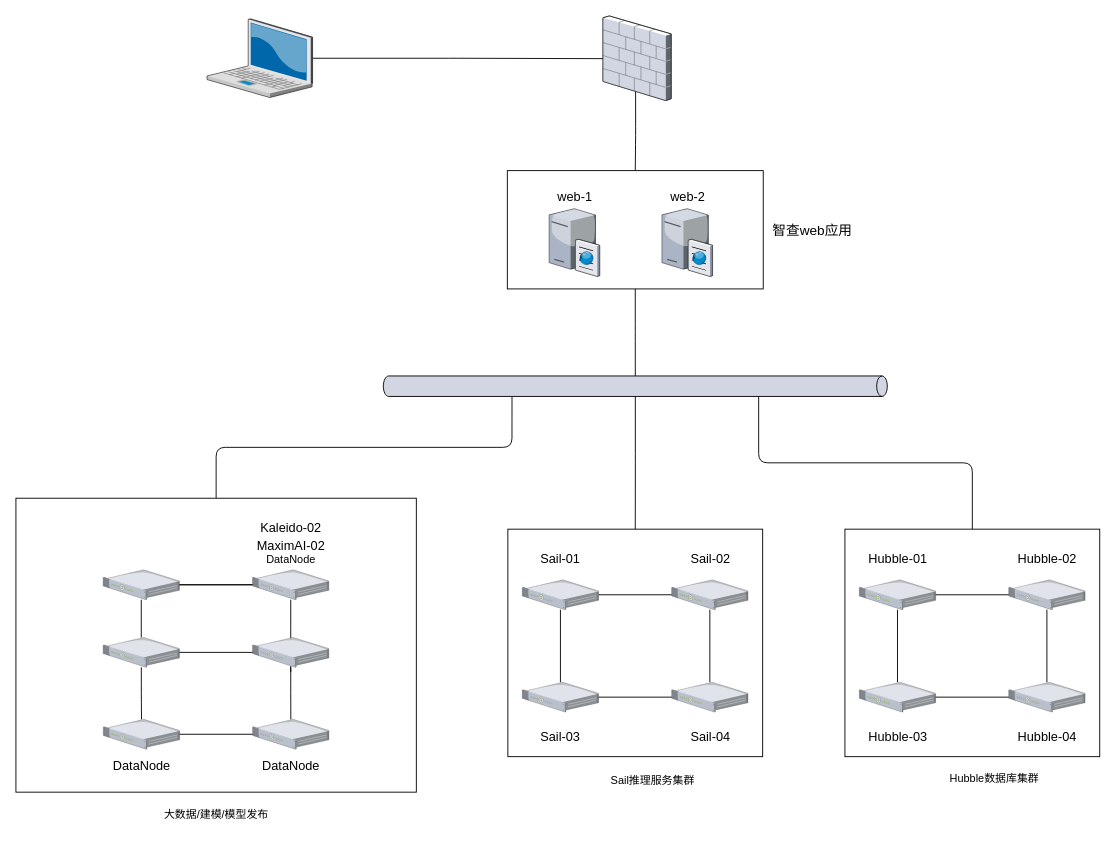
The diagram is 1116 pixels wide and 844 high, and some of its shapes have lost their labels. The box of each missing label's shape, as (x1, y1, x2, y2) in pixels:
Kaleido-01 MaximAI-01 NameNode: (103, 569, 179, 599)
Kaleido-03 MaximAI-03 DataNode: (103, 637, 179, 667)
Kaleido-03 MaximAI-03 NameNode: (252, 637, 328, 667)
信息访问: (207, 18, 312, 97)
